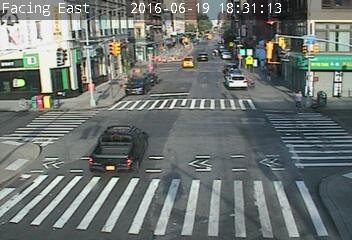neg: (296, 157, 319, 188), (218, 200, 239, 227), (128, 82, 148, 109), (47, 189, 67, 215), (115, 193, 135, 219), (175, 123, 194, 148), (54, 99, 73, 124), (30, 151, 49, 176), (116, 129, 134, 153), (222, 54, 240, 78), (193, 187, 211, 211), (157, 188, 175, 212), (76, 54, 93, 77), (243, 139, 259, 161), (315, 87, 331, 109), (186, 76, 202, 97), (45, 46, 61, 67), (270, 160, 285, 181), (303, 34, 318, 55), (292, 122, 305, 139), (240, 97, 252, 113)
pos: (292, 87, 306, 107)
